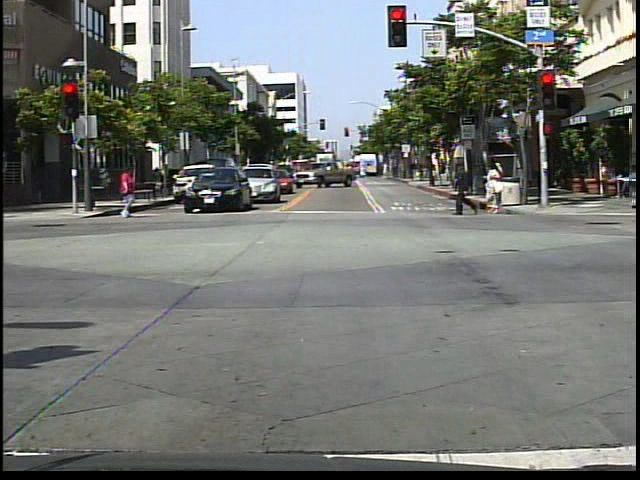person: (453, 158, 486, 221), (482, 157, 507, 221), (116, 164, 139, 220), (618, 155, 640, 199)
